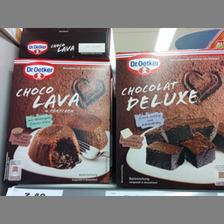Kuchen: (113, 49, 223, 189), (4, 52, 113, 186)
